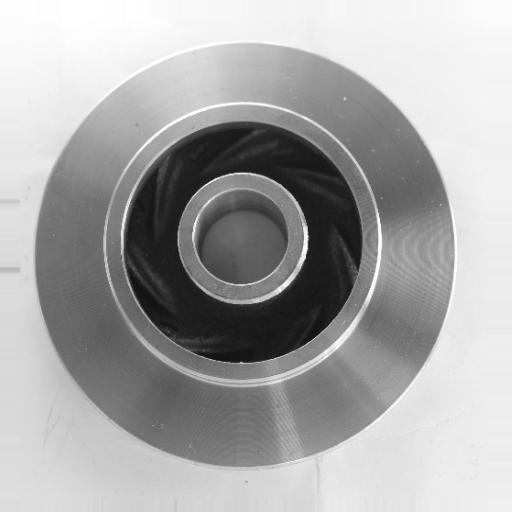polished_casting: (33, 40, 458, 468)
